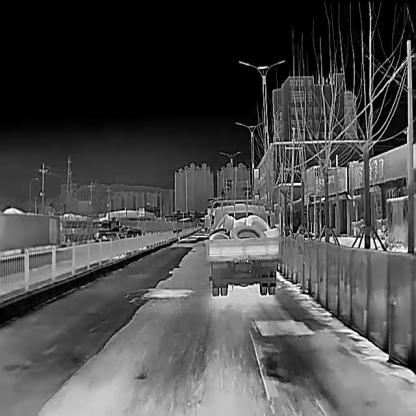car: (92, 231, 120, 247), (124, 228, 142, 239)
truck: (207, 198, 280, 296)
